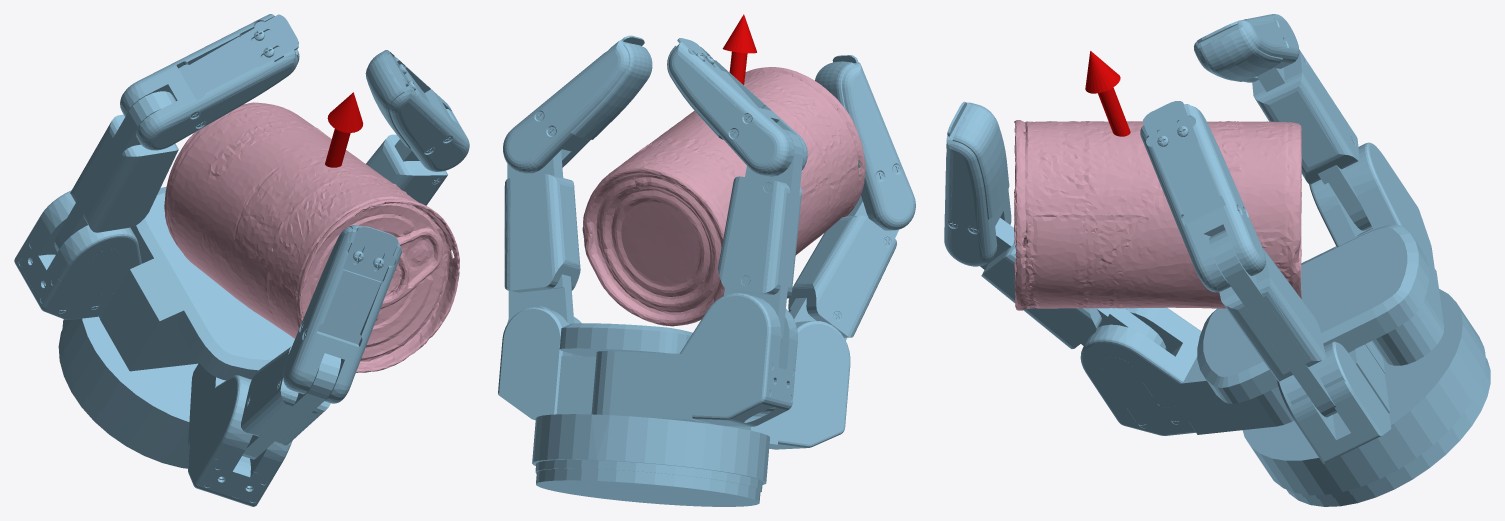
3 views of the same model, side by side, from view 1: azimuth 30°, elevation 25°; view 2: azimuth 150°, elevation 25°; view 3: azimuth 270°, elevation 25° (orthographic). The views are drawn at different scales.
Parts seen in each view (by area): view 1: world, tomato_soup_can.stl; view 2: world, tomato_soup_can.stl; view 3: world, tomato_soup_can.stl.
Boxes of the visible parts, x1,y1,x2,y2 form: world: (14,14,469,506); tomato_soup_can.stl: (164,102,459,372); world: (498,14,915,506); tomato_soup_can.stl: (582,67,865,326); world: (944,14,1490,506); tomato_soup_can.stl: (1014,120,1301,310).
Size of the model in its own units: 0.1483 by 0.1857 by 0.1934.
